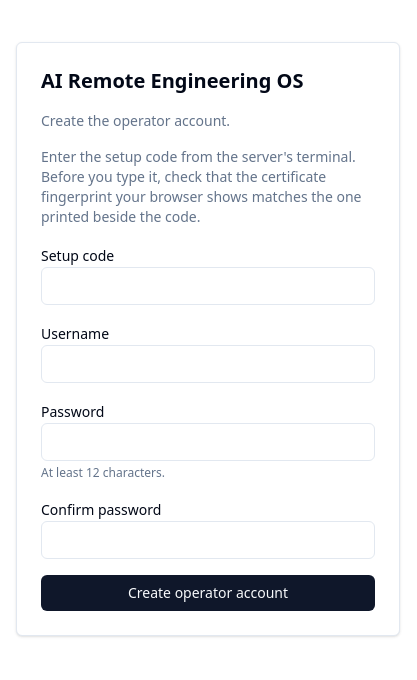
Test: Setup form › shows the reason the server gives for a refused username or password
In the field labelled "Setup code": (208, 286) [41,267,375,305], type "abcde-fghjk-mnpqr-stvwx"
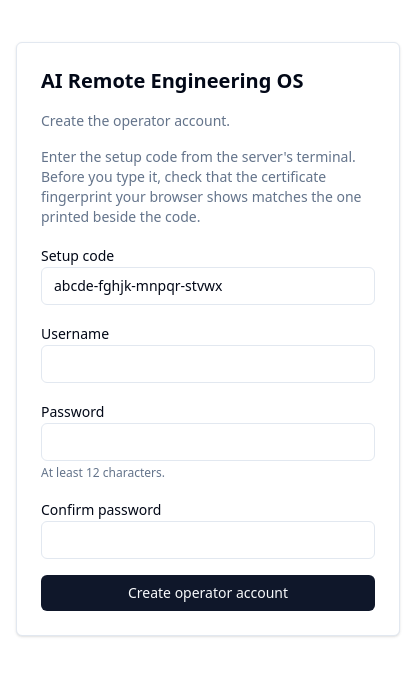
In the field labelled "Username": (208, 364) [41,345,375,383], type "admin"
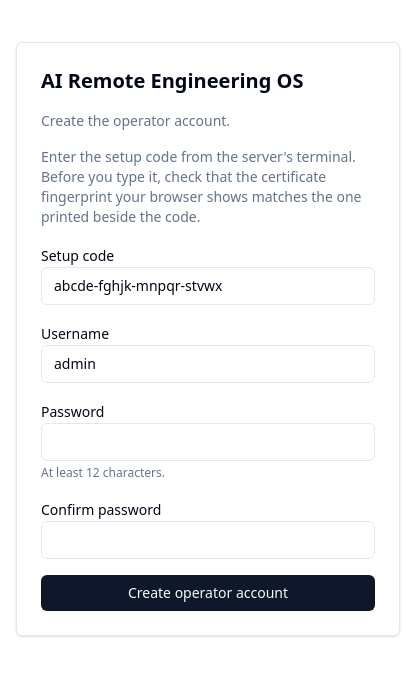
In the password field labelled "Password": (208, 442) [41,423,375,461], type "correct horse battery"
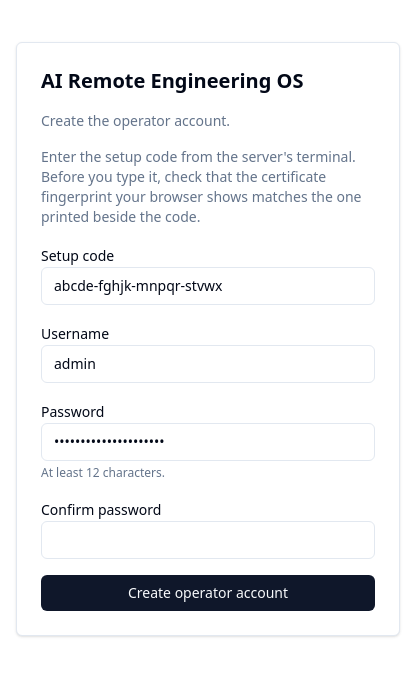
In the password field labelled "Confirm password": (208, 540) [41,521,375,559], type "correct horse battery"
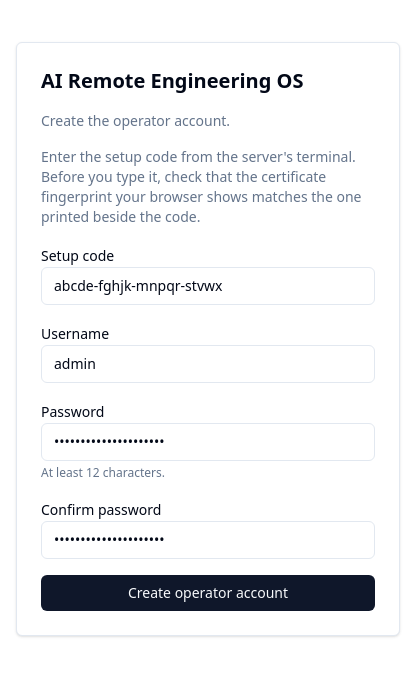
Click the button "Create operator account": (208, 593) [41,575,375,611]
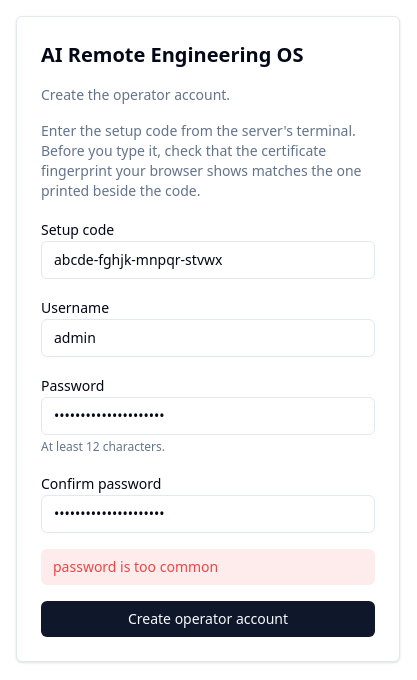
Check: the message reads "password is too common", box [53,557,218,576]
